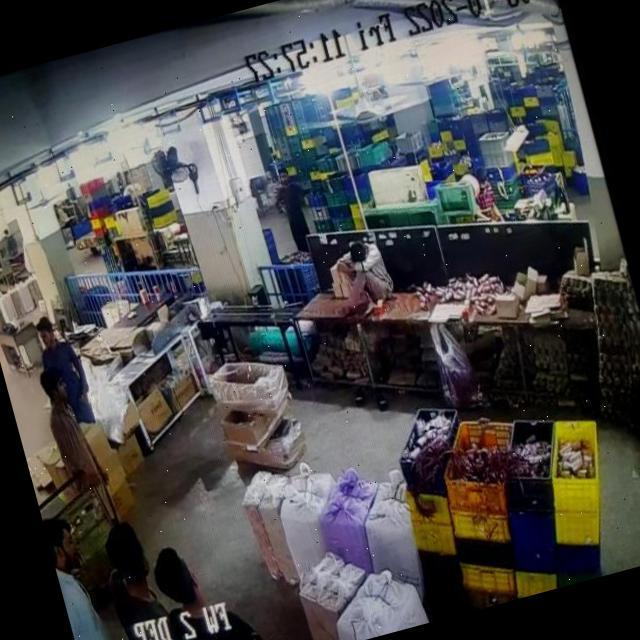person: (89, 510, 196, 640), (144, 526, 265, 640), (42, 508, 132, 640), (33, 360, 102, 490), (26, 307, 94, 429), (266, 160, 314, 252)
